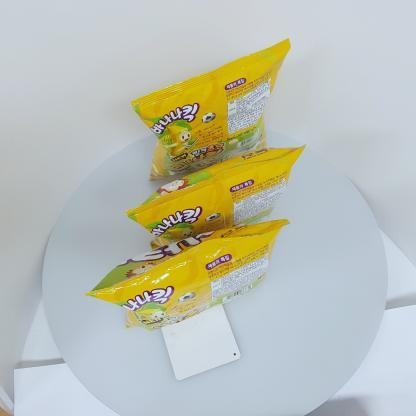Plastic Packaging: (78, 32, 314, 336)
